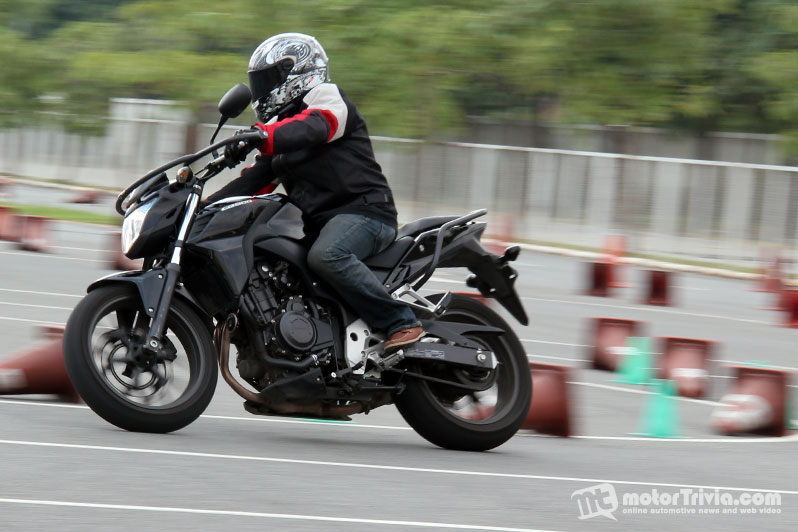helmet: (247, 33, 331, 123)
motorcycle: (61, 83, 535, 455)
